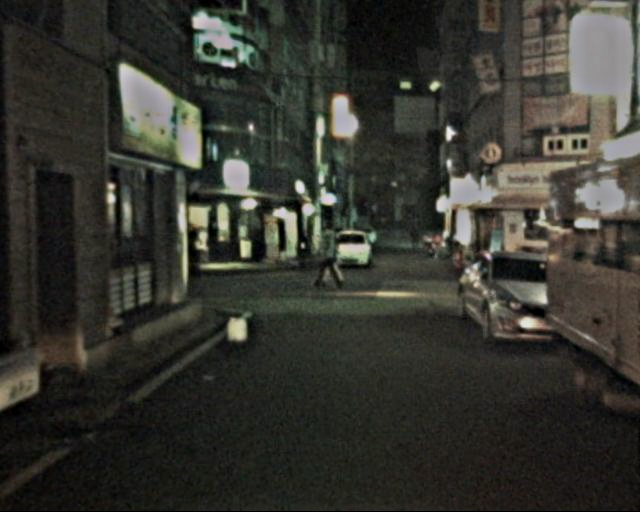person: (312, 223, 341, 292)
